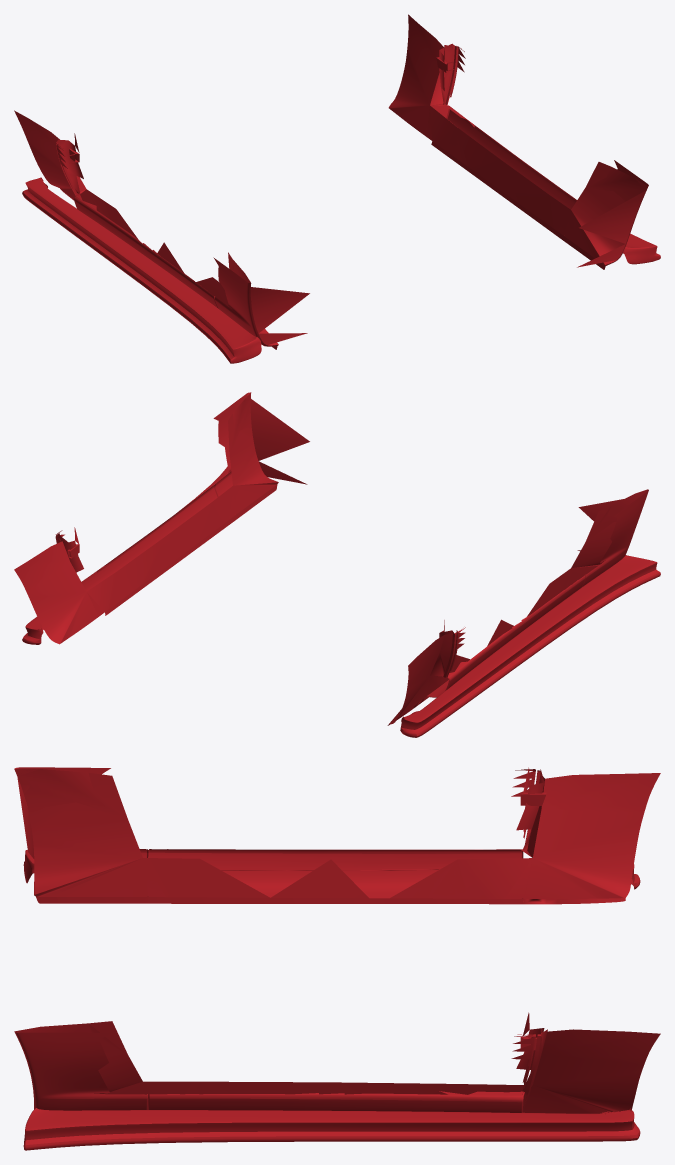
3 renders of one model, top to bottom at view 1: azimuth 30°, elevation 25°; view 2: azimuth 150°, elevation 25°; view 3: azimuth 270°, elevation 25°, orthographic. The views are drawn at different scales.
Parts seen in each view (by area): view 1: SideskirtsAK_StockRocker, Miata_Aero_SideskirtsAK; view 2: SideskirtsAK_StockRocker, Miata_Aero_SideskirtsAK; view 3: SideskirtsAK_StockRocker, Miata_Aero_SideskirtsAK.
Part boxes in pixels (bbox=[...]): SideskirtsAK_StockRocker: bbox=[14, 14, 648, 349]; Miata_Aero_SideskirtsAK: bbox=[22, 105, 660, 363]; SideskirtsAK_StockRocker: bbox=[14, 392, 648, 725]; Miata_Aero_SideskirtsAK: bbox=[22, 466, 660, 737]; SideskirtsAK_StockRocker: bbox=[14, 767, 660, 1113]; Miata_Aero_SideskirtsAK: bbox=[23, 850, 640, 1150].
Size of the model in its own units: 72.38 by 14.58 by 69.4.
